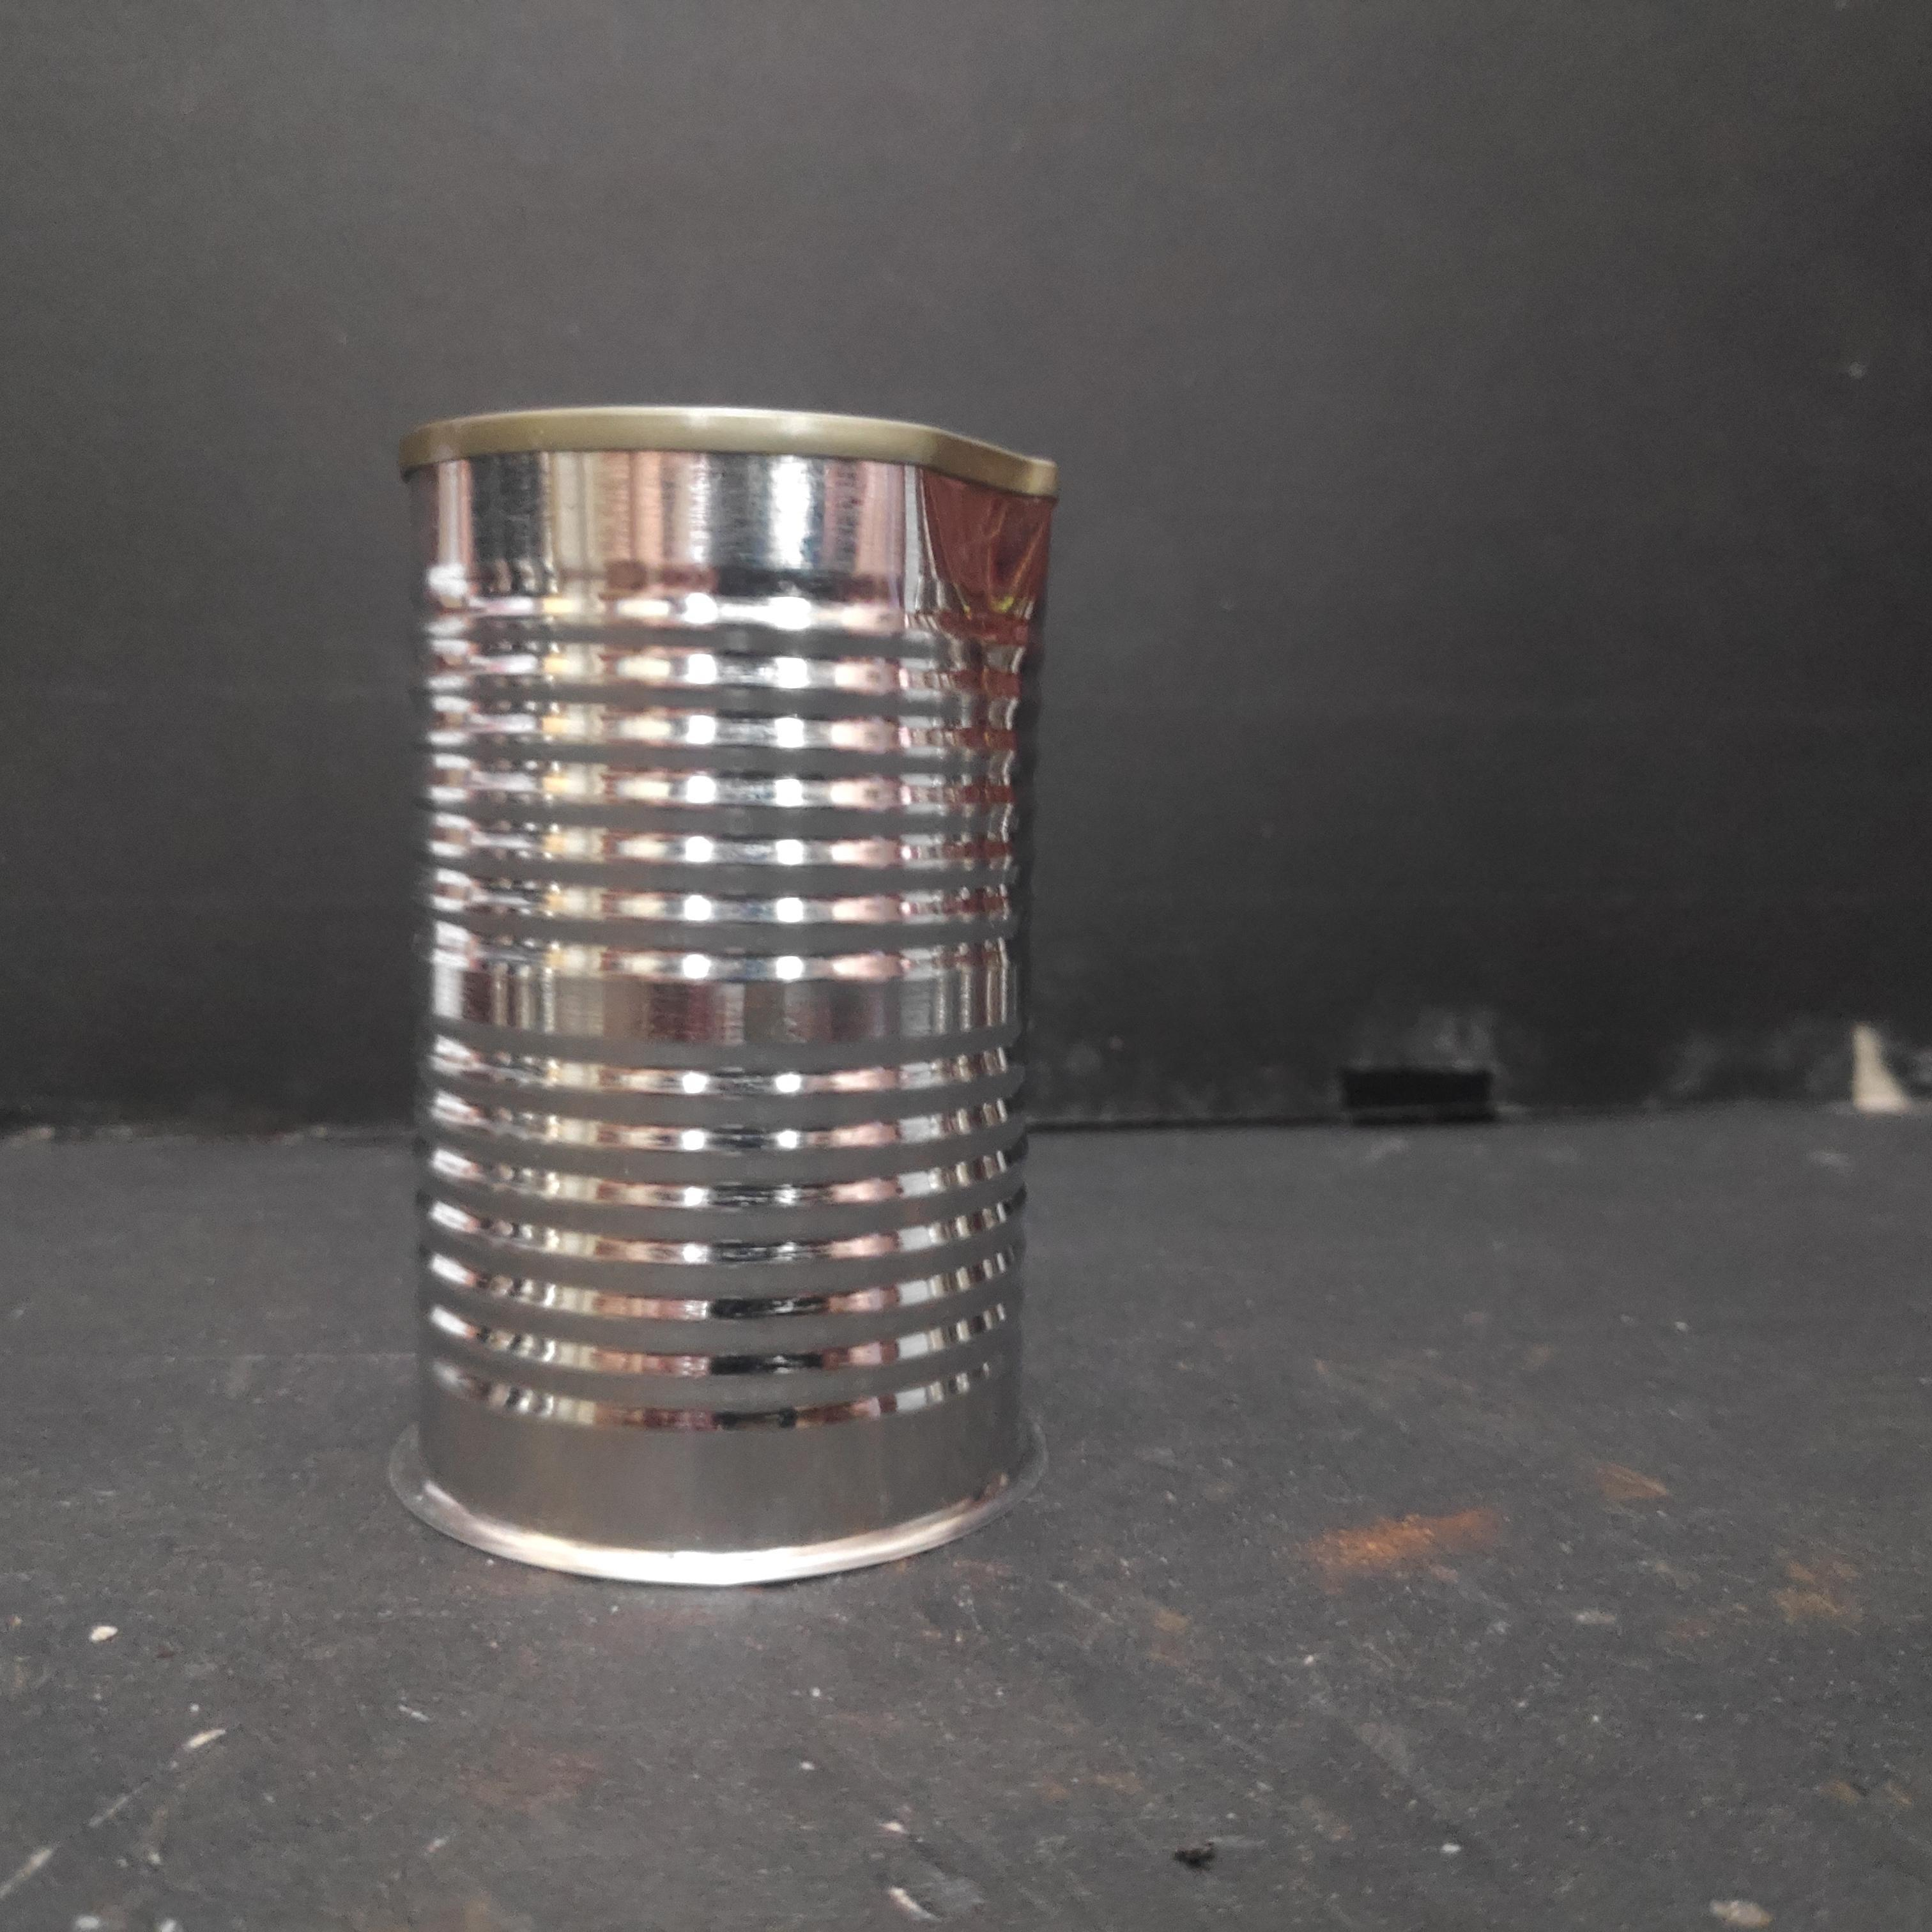Dented: (377, 377, 1074, 1585)
